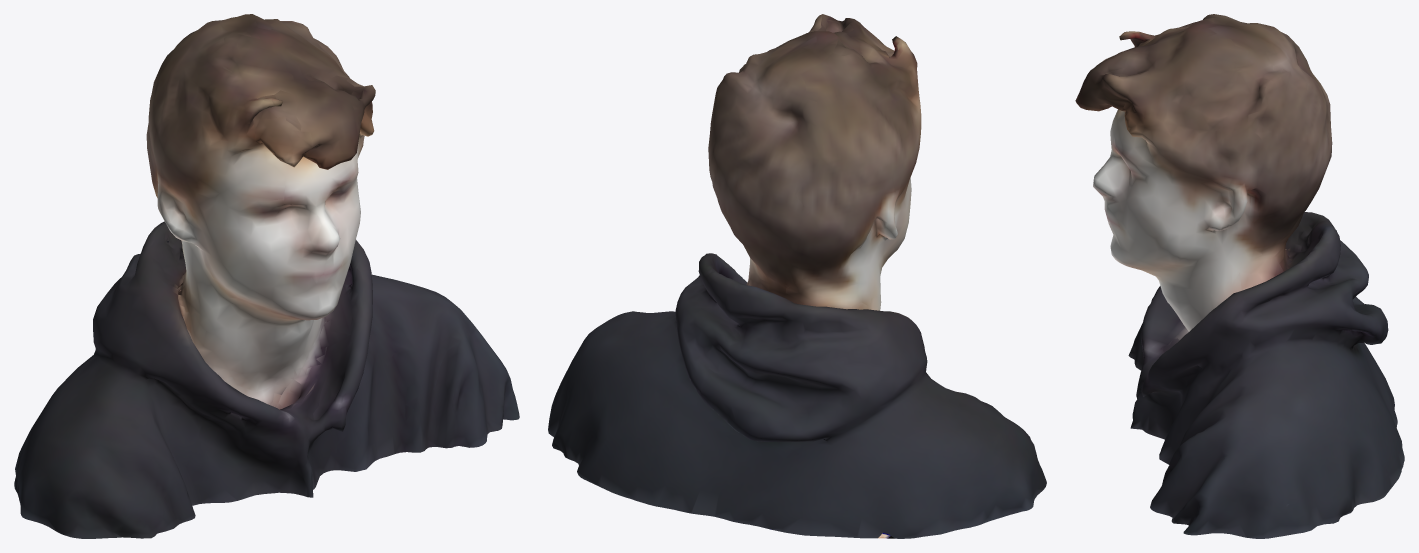
Rendered from ilan_smooth.glb.
3 renders of one model, left to right at view 1: azimuth 30°, elevation 25°; view 2: azimuth 150°, elevation 25°; view 3: azimuth 270°, elevation 25°, orthographic. The views are drawn at different scales.
Parts seen in each view (by area): view 1: ilan texture; view 2: ilan texture; view 3: ilan texture.
Boxes of the visible parts, <box> form: ilan texture: <box>14,14,519,538</box>; ilan texture: <box>548,14,1046,538</box>; ilan texture: <box>1075,14,1404,538</box>.
Size of the model in its own units: 0.4875 by 0.4191 by 0.3126.
1 material, 1 textured.
